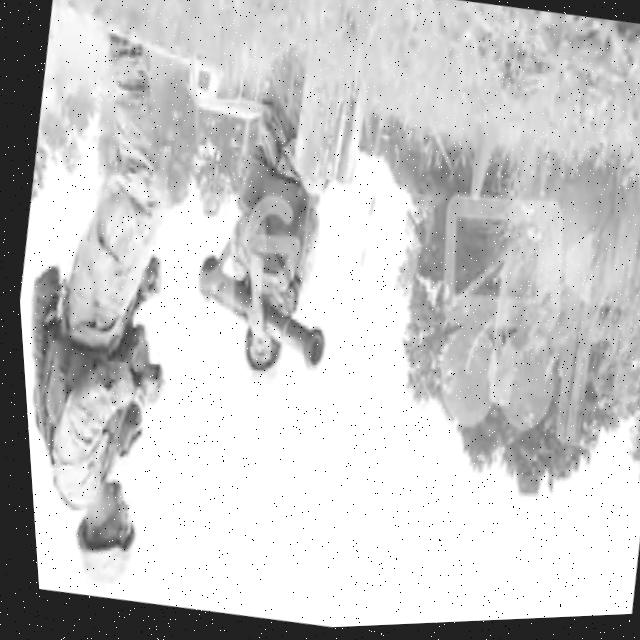rocket: (182, 248, 335, 386)
